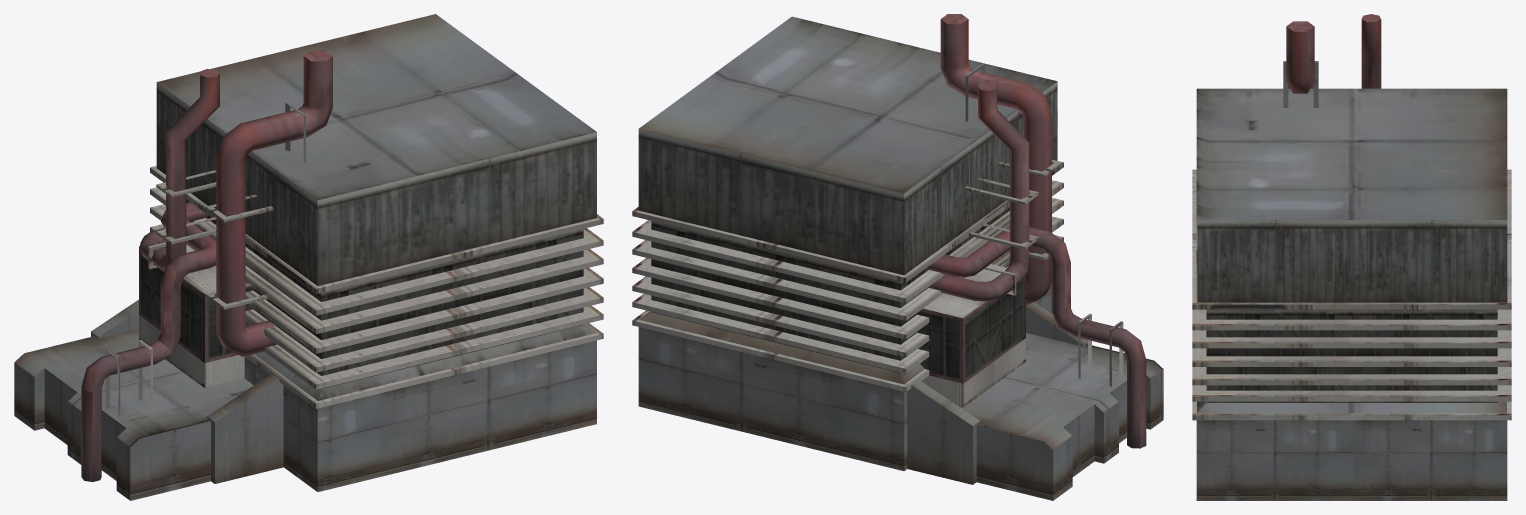
File: ind-smith.lod0.glb
The picture shows the model from 3 angles, left to right: view 1: azimuth 30°, elevation 25°; view 2: azimuth 150°, elevation 25°; view 3: azimuth 270°, elevation 25°; orthographic projection. The views are drawn at different scales.
Visible parts, largest first — view 1: Industrial_Smth_1_Industrial_Walls_FLR_1_0; view 2: Industrial_Smth_1_Industrial_Walls_FLR_1_0; view 3: Industrial_Smth_1_Industrial_Walls_FLR_1_0.
Part boxes in pixels (x1,y1,x2,y2): Industrial_Smth_1_Industrial_Walls_FLR_1_0: (14, 14, 603, 500); Industrial_Smth_1_Industrial_Walls_FLR_1_0: (632, 14, 1163, 500); Industrial_Smth_1_Industrial_Walls_FLR_1_0: (1192, 14, 1511, 500).
Bounding box in the file's own units: 18.34 × 15.04 × 11.8.
Materials: 1 (1 with a texture image).
